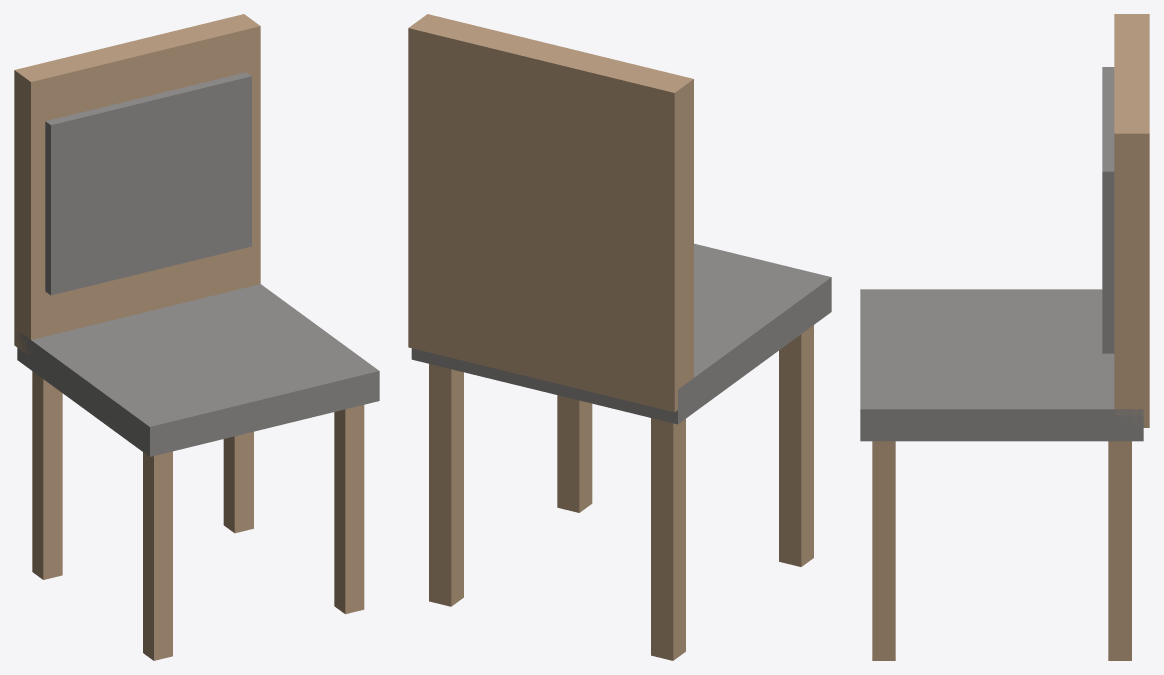
File: dining-chair.glb
3 views of the same model, side by side, from view 1: azimuth 30°, elevation 25°; view 2: azimuth 150°, elevation 25°; view 3: azimuth 270°, elevation 25° (orthographic). The views are drawn at different scales.
Visible parts, largest first — view 1: dining-chair; view 2: dining-chair; view 3: dining-chair.
Boxes of the visible parts, bbox=[...] form: dining-chair: bbox=[14, 14, 379, 660]; dining-chair: bbox=[408, 14, 831, 660]; dining-chair: bbox=[860, 14, 1149, 660].
Bounding box in the file's own units: 0.48 × 0.995 × 0.49.
